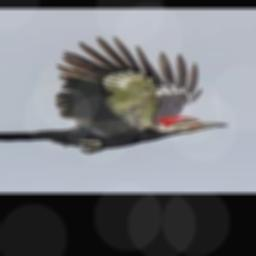Woodpecker: (0, 35, 231, 153)
